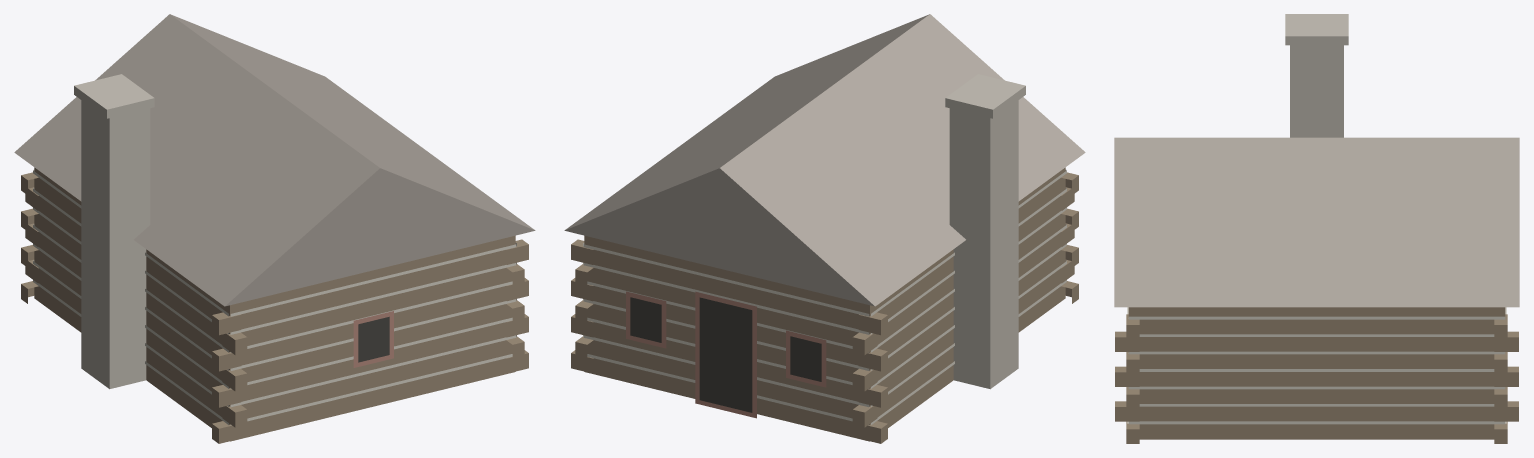
File: recon_1835_blk_randolph_clinton_d1_03__inferred_1835.glb
3 views of the same model, side by side, from view 1: azimuth 30°, elevation 25°; view 2: azimuth 150°, elevation 25°; view 3: azimuth 270°, elevation 25° (orthographic). The views are drawn at different scales.
Parts seen in each view (by area): view 1: recon_1835_blk_randolph_clinton_d1_03__inferred_1835; view 2: recon_1835_blk_randolph_clinton_d1_03__inferred_1835; view 3: recon_1835_blk_randolph_clinton_d1_03__inferred_1835.
Part boxes in pixels (bbox=[...]): recon_1835_blk_randolph_clinton_d1_03__inferred_1835: bbox=[14, 14, 535, 443]; recon_1835_blk_randolph_clinton_d1_03__inferred_1835: bbox=[564, 14, 1085, 443]; recon_1835_blk_randolph_clinton_d1_03__inferred_1835: bbox=[1114, 14, 1519, 443].
Size of the model in its own units: 6.68 by 5.37 by 7.16.
